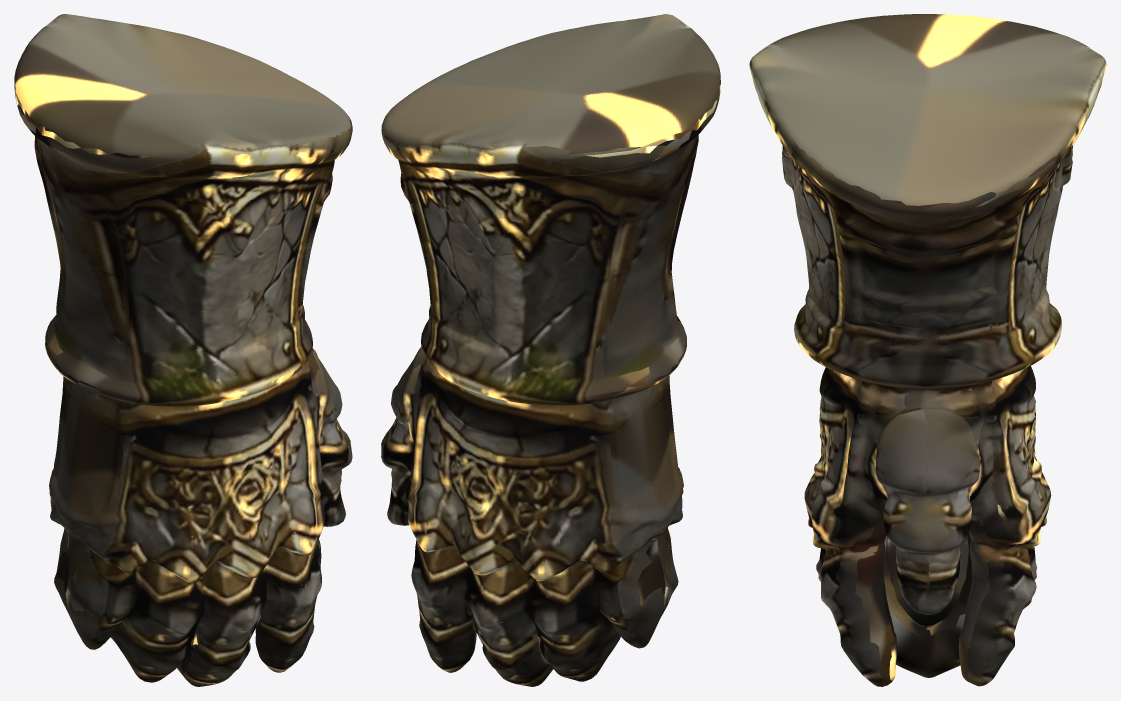
Rendered from aegis_gauntlet.glb.
3 renders of one model, left to right at view 1: azimuth 30°, elevation 25°; view 2: azimuth 150°, elevation 25°; view 3: azimuth 270°, elevation 25°, orthographic. The views are drawn at different scales.
Parts seen in each view (by area): view 1: geometry_0; view 2: geometry_0; view 3: geometry_0.
Boxes of the visible parts, x1,y1,x2,y2 form: geometry_0: [14, 14, 352, 686]; geometry_0: [381, 14, 720, 686]; geometry_0: [749, 14, 1106, 686].
Bounding box in the file's own units: 0.1775 × 0.34 × 0.184.
1 material, 1 textured.
